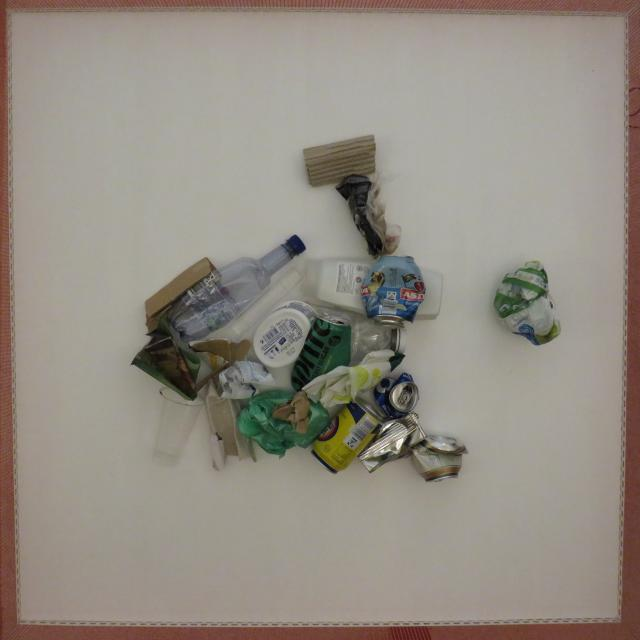cardboard: (145, 258, 216, 332), (205, 375, 256, 470), (303, 135, 375, 186), (189, 339, 251, 391), (272, 391, 310, 433)
hard_plastic: (166, 235, 305, 341), (219, 268, 304, 341), (312, 305, 407, 366), (253, 301, 316, 368), (153, 387, 204, 466), (302, 258, 372, 315), (415, 268, 443, 320)
metal: (311, 397, 383, 473), (291, 316, 351, 391), (361, 255, 425, 325), (358, 412, 426, 472), (411, 435, 468, 481), (374, 373, 419, 418)
soft_plastic: (237, 390, 330, 458), (302, 349, 405, 408), (131, 315, 200, 400), (336, 171, 401, 258), (494, 261, 560, 345), (219, 360, 277, 399)
